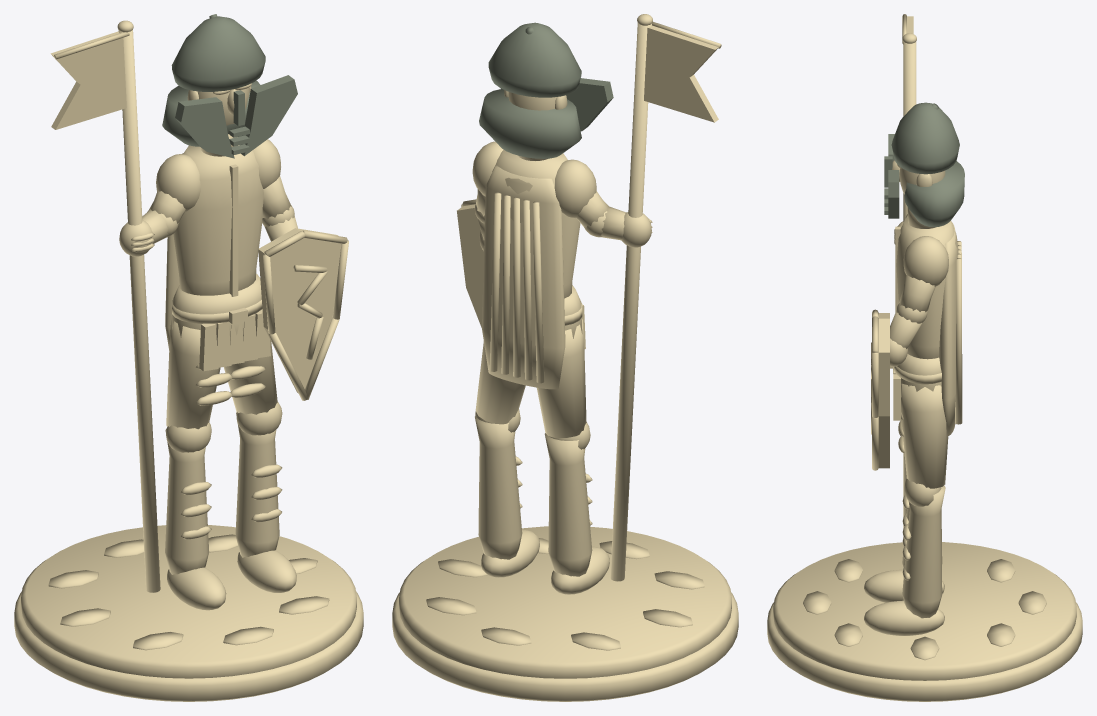
File: knight-beige-level-2-helmet.fbx
The picture shows the model from 3 angles, left to right: view 1: azimuth 30°, elevation 25°; view 2: azimuth 150°, elevation 25°; view 3: azimuth 270°, elevation 25°; orthographic projection. The views are drawn at different scales.
Parts seen in each view (by area): view 1: Knight_Level_2_Helmet_Sculpt; view 2: Knight_Level_2_Helmet_Sculpt; view 3: Knight_Level_2_Helmet_Sculpt.
Part boxes in pixels (x1,y1,x2,y2): Knight_Level_2_Helmet_Sculpt: (14, 14, 363, 701); Knight_Level_2_Helmet_Sculpt: (392, 14, 738, 701); Knight_Level_2_Helmet_Sculpt: (767, 14, 1082, 701).
Size of the model in its own units: 0.012 by 0.024 by 0.012.
